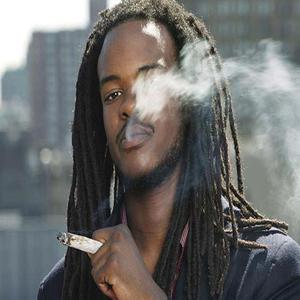cigarette: (57, 231, 103, 257)
